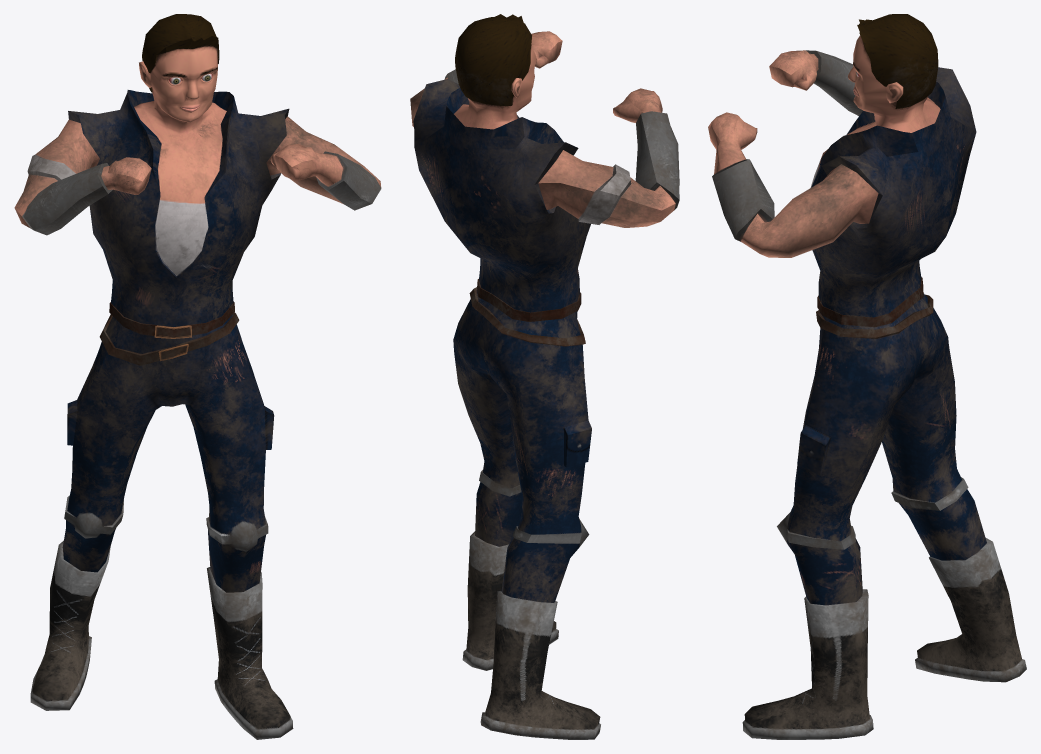
Rendered from Anim_especial_jugador.0012.obj.
The picture shows the model from 3 angles, left to right: view 1: azimuth 30°, elevation 25°; view 2: azimuth 150°, elevation 25°; view 3: azimuth 270°, elevation 25°; orthographic projection. The views are drawn at different scales.
Visible parts, largest first — view 1: polySurface1; view 2: polySurface1; view 3: polySurface1.
Boxes of the visible parts, x1=… form: polySurface1: x1=14, y1=14, x2=381, y2=739; polySurface1: x1=410, y1=14, x2=679, y2=739; polySurface1: x1=708, y1=14, x2=1026, y2=739.
Size of the model in its own units: 4.57 by 9.61 by 3.95.
